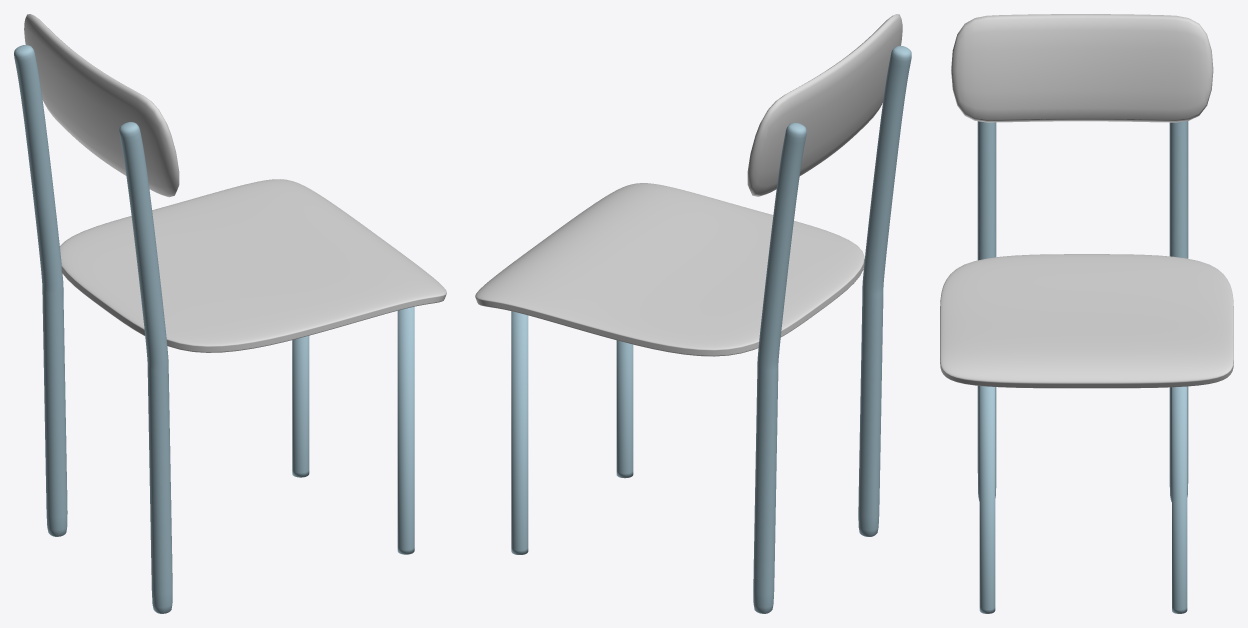
Rendered from StudentsChair fixed normals.fbx.
3 renders of one model, left to right at view 1: azimuth 30°, elevation 25°; view 2: azimuth 150°, elevation 25°; view 3: azimuth 270°, elevation 25°, orthographic. The views are drawn at different scales.
Visible parts, largest first — view 1: Seat.001, Backrest, Metal.001, Metal, Cylinder, Cylinder.001; view 2: Seat.001, Backrest, Metal.001, Metal, Cylinder.001, Cylinder; view 3: Seat.001, Backrest, Cylinder, Cylinder.001, Metal.001, Metal.
Part boxes in pixels (x1=…): Seat.001: x1=60, y1=179, x2=446, y2=352; Backrest: x1=24, y1=14, x2=179, y2=197; Metal.001: x1=119, y1=122, x2=172, y2=613; Metal: x1=14, y1=45, x2=67, y2=536; Cylinder: x1=397, y1=306, x2=414, y2=554; Cylinder.001: x1=292, y1=336, x2=309, y2=477; Seat.001: x1=475, y1=183, x2=864, y2=356; Backrest: x1=747, y1=14, x2=902, y2=196; Metal.001: x1=858, y1=45, x2=911, y2=536; Metal: x1=753, y1=122, x2=806, y2=613; Cylinder.001: x1=511, y1=311, x2=528, y2=554; Cylinder: x1=616, y1=340, x2=633, y2=478; Seat.001: x1=940, y1=254, x2=1233, y2=388; Backrest: x1=951, y1=14, x2=1213, y2=122; Cylinder: x1=979, y1=386, x2=995, y2=613; Cylinder.001: x1=1172, y1=386, x2=1187, y2=613; Metal.001: x1=977, y1=121, x2=996, y2=501; Metal: x1=1169, y1=121, x2=1188, y2=501.
Bounding box in the file's own units: 296 × 469 × 261.
